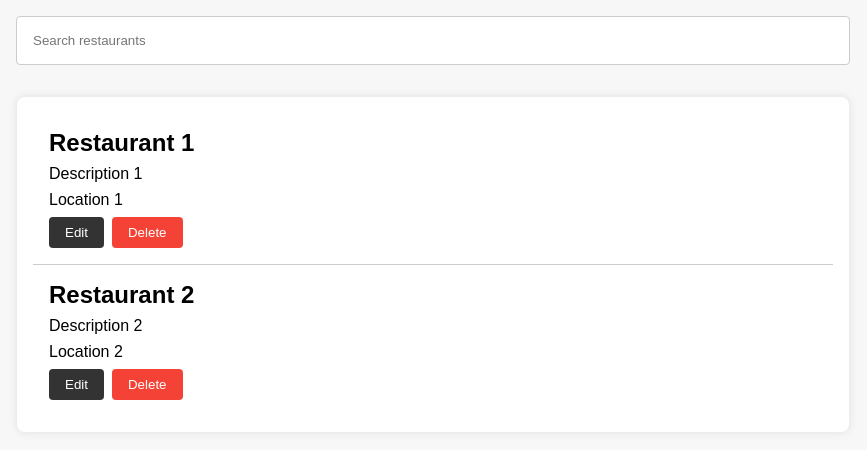
Test: RestaurantList Component › filters restaurants based on search input
Expected: the heading "Restaurant 1" is shown, [49,129,194,156]
Expected: the heading "Restaurant 2" is shown, [49,281,194,308]
Type "1" into the field with placeholder "Search restaurants".
click(433, 40); type("1")  # box [16,16,850,65]
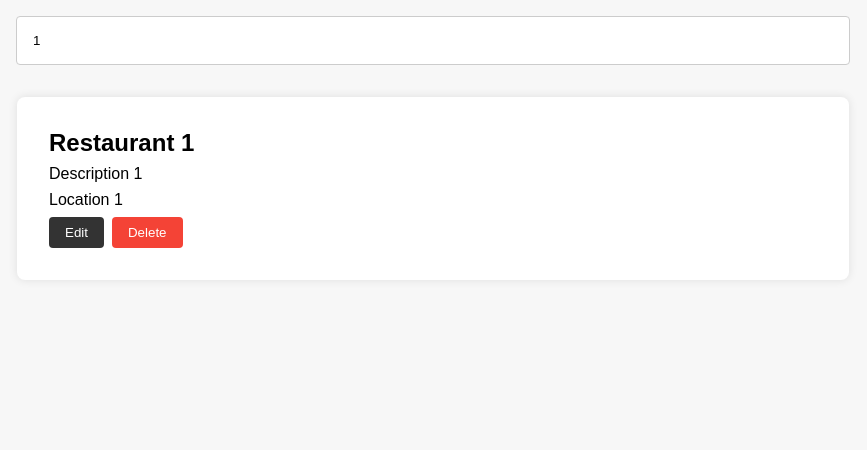
Expected: the heading "Restaurant 1" is shown, [49,129,194,156]
Result: the heading "Restaurant 2" is gone
